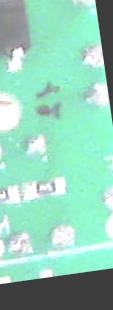chip-resistor: (21, 175, 68, 202)
